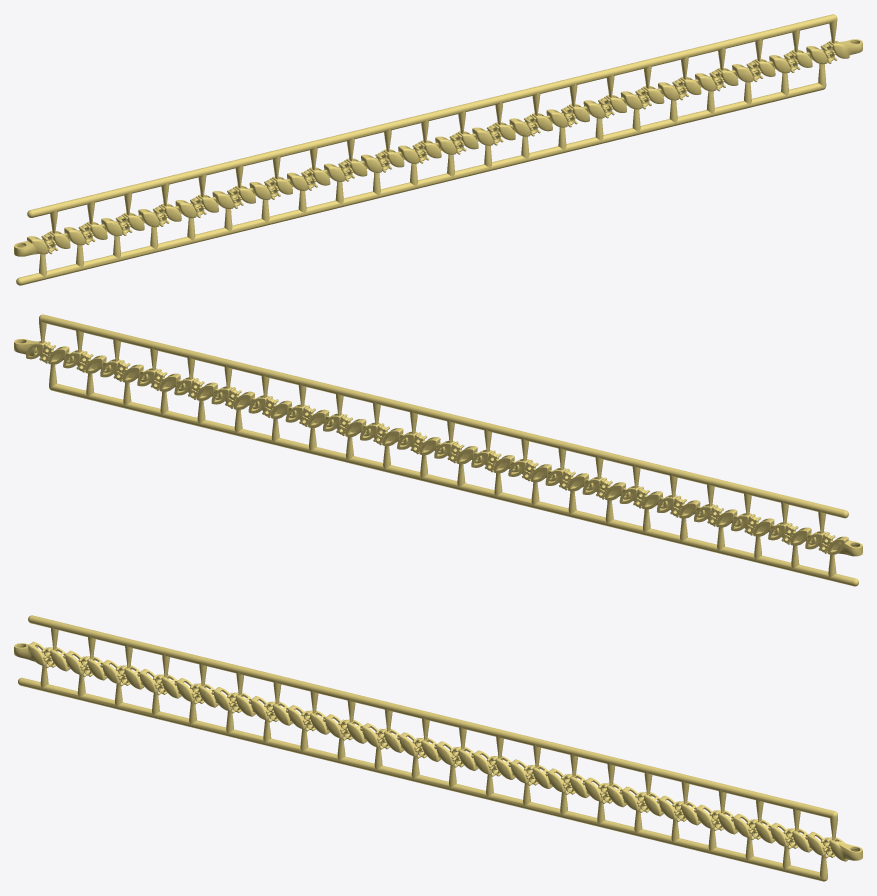
The model's file is yzn5-90_6.glb.
3 views of the same model, one above another, from view 1: azimuth 30°, elevation 25°; view 2: azimuth 150°, elevation 25°; view 3: azimuth 330°, elevation 25° (orthographic).
Parts seen in each view (by area): view 1: Renderer Node; view 2: Renderer Node; view 3: Renderer Node.
Boxes of the visible parts, x1=… form: Renderer Node: x1=14, y1=14, x2=862, y2=285; Renderer Node: x1=14, y1=314, x2=862, y2=586; Renderer Node: x1=14, y1=615, x2=862, y2=881.
Bounding box in the file's own units: 180 × 14.73 × 2.82.
